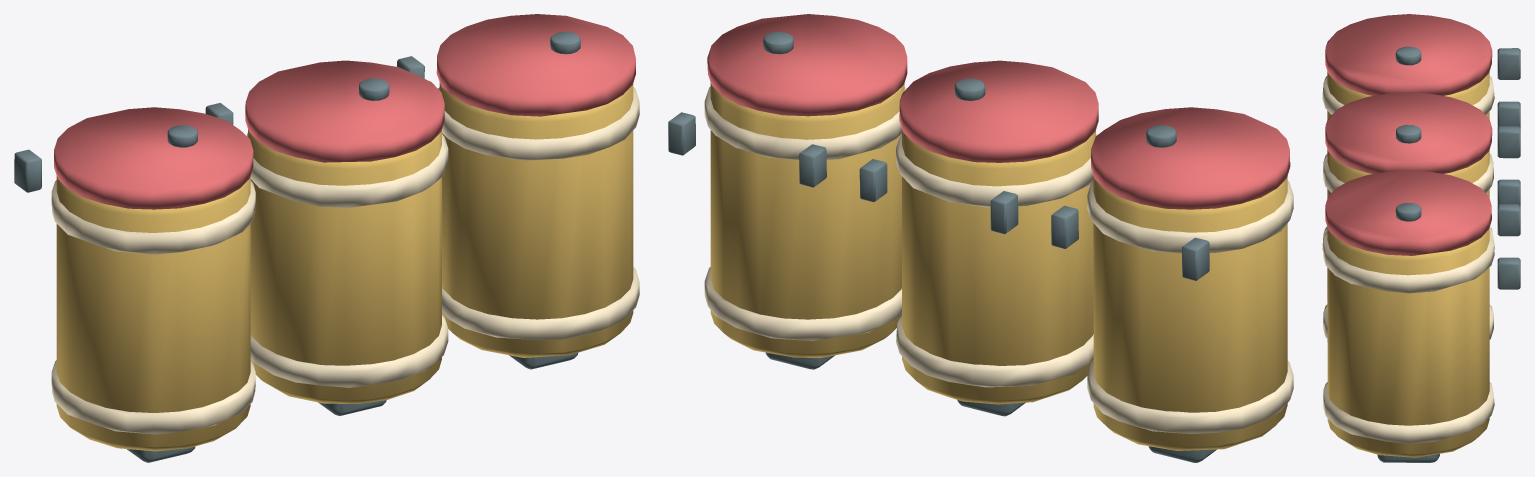
Rendered from broto_hoppers_barrel_mobile.glb.
3 views of the same model, side by side, from view 1: azimuth 30°, elevation 25°; view 2: azimuth 150°, elevation 25°; view 3: azimuth 270°, elevation 25° (orthographic). The views are drawn at different scales.
Parts seen in each view (by area): view 1: Hoppers, CraftDetails; view 2: Hoppers, CraftDetails; view 3: Hoppers, CraftDetails.
Part boxes in pixels (x1,y1,x2,y2): Hoppers: (51, 14, 639, 451); CraftDetails: (14, 31, 580, 462); Hoppers: (704, 14, 1293, 450); CraftDetails: (668, 31, 1216, 462); Hoppers: (1322, 14, 1494, 457); CraftDetails: (1377, 46, 1520, 462).
Bounding box in the file's own units: 2.31 × 1.22 × 0.8475.
